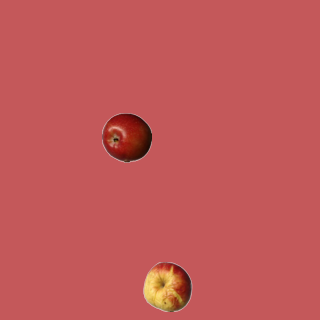Apple Braeburn: (101, 112, 151, 162)
Apple Red Yellow 1: (142, 261, 192, 311)
